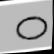no answer: (12, 13, 50, 44)
